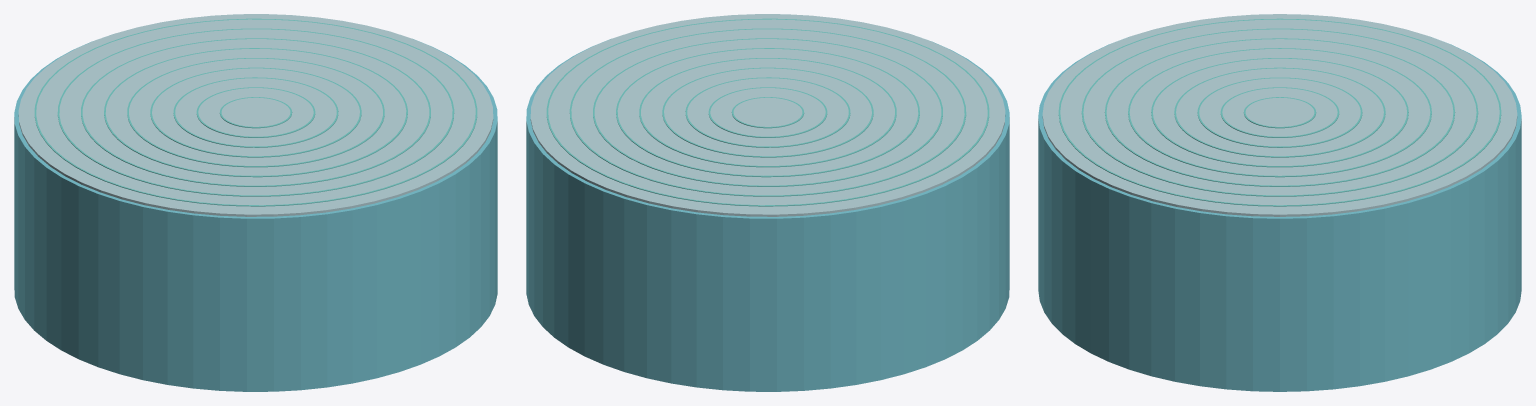
Rendered from 03_L76_TransparentElectrolyteBasin.glb.
3 renders of one model, left to right at view 1: azimuth 30°, elevation 25°; view 2: azimuth 150°, elevation 25°; view 3: azimuth 270°, elevation 25°, orthographic.
Parts seen in each view (by area): view 1: TransparentElectrolyteBasin_Node_0000, TransparentElectrolyteBasin_Node_0001, TransparentElectrolyteBasin_Node_0010, TransparentElectrolyteBasin_Node_0009, TransparentElectrolyteBasin_Node_0008, TransparentElectrolyteBasin_Node_0007, TransparentElectrolyteBasin_Node_0006, TransparentElectrolyteBasin_Node_0005, TransparentElectrolyteBasin_Node_0004, TransparentElectrolyteBasin_Node_0003; view 2: TransparentElectrolyteBasin_Node_0000, TransparentElectrolyteBasin_Node_0001, TransparentElectrolyteBasin_Node_0010, TransparentElectrolyteBasin_Node_0009, TransparentElectrolyteBasin_Node_0008, TransparentElectrolyteBasin_Node_0007, TransparentElectrolyteBasin_Node_0006, TransparentElectrolyteBasin_Node_0005, TransparentElectrolyteBasin_Node_0004, TransparentElectrolyteBasin_Node_0003; view 3: TransparentElectrolyteBasin_Node_0000, TransparentElectrolyteBasin_Node_0001, TransparentElectrolyteBasin_Node_0010, TransparentElectrolyteBasin_Node_0009, TransparentElectrolyteBasin_Node_0008, TransparentElectrolyteBasin_Node_0007, TransparentElectrolyteBasin_Node_0006, TransparentElectrolyteBasin_Node_0005, TransparentElectrolyteBasin_Node_0004, TransparentElectrolyteBasin_Node_0003.
Boxes of the visible parts, x1=… form: TransparentElectrolyteBasin_Node_0000: x1=14, y1=38, x2=497, y2=391; TransparentElectrolyteBasin_Node_0001: x1=18, y1=14, x2=493, y2=216; TransparentElectrolyteBasin_Node_0010: x1=34, y1=18, x2=477, y2=206; TransparentElectrolyteBasin_Node_0009: x1=57, y1=28, x2=454, y2=196; TransparentElectrolyteBasin_Node_0008: x1=81, y1=38, x2=430, y2=186; TransparentElectrolyteBasin_Node_0007: x1=104, y1=48, x2=407, y2=177; TransparentElectrolyteBasin_Node_0006: x1=127, y1=58, x2=384, y2=167; TransparentElectrolyteBasin_Node_0005: x1=150, y1=67, x2=361, y2=157; TransparentElectrolyteBasin_Node_0004: x1=173, y1=77, x2=338, y2=147; TransparentElectrolyteBasin_Node_0003: x1=196, y1=87, x2=315, y2=137; TransparentElectrolyteBasin_Node_0000: x1=526, y1=38, x2=1009, y2=391; TransparentElectrolyteBasin_Node_0001: x1=530, y1=14, x2=1005, y2=216; TransparentElectrolyteBasin_Node_0010: x1=546, y1=18, x2=989, y2=206; TransparentElectrolyteBasin_Node_0009: x1=569, y1=28, x2=966, y2=196; TransparentElectrolyteBasin_Node_0008: x1=593, y1=38, x2=942, y2=186; TransparentElectrolyteBasin_Node_0007: x1=616, y1=48, x2=919, y2=177; TransparentElectrolyteBasin_Node_0006: x1=639, y1=58, x2=896, y2=167; TransparentElectrolyteBasin_Node_0005: x1=662, y1=67, x2=873, y2=157; TransparentElectrolyteBasin_Node_0004: x1=685, y1=77, x2=850, y2=147; TransparentElectrolyteBasin_Node_0003: x1=708, y1=87, x2=827, y2=137; TransparentElectrolyteBasin_Node_0000: x1=1038, y1=37, x2=1521, y2=391; TransparentElectrolyteBasin_Node_0001: x1=1042, y1=14, x2=1517, y2=216; TransparentElectrolyteBasin_Node_0010: x1=1058, y1=18, x2=1501, y2=206; TransparentElectrolyteBasin_Node_0009: x1=1081, y1=28, x2=1478, y2=196; TransparentElectrolyteBasin_Node_0008: x1=1104, y1=38, x2=1455, y2=186; TransparentElectrolyteBasin_Node_0007: x1=1128, y1=48, x2=1431, y2=177; TransparentElectrolyteBasin_Node_0006: x1=1151, y1=58, x2=1408, y2=167; TransparentElectrolyteBasin_Node_0005: x1=1174, y1=67, x2=1385, y2=157; TransparentElectrolyteBasin_Node_0004: x1=1197, y1=77, x2=1362, y2=147; TransparentElectrolyteBasin_Node_0003: x1=1220, y1=87, x2=1339, y2=137.
Size of the model in its own units: 3.34 by 1.35 by 3.34.
